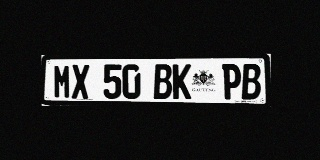0: (122, 64, 140, 99)
5: (104, 64, 121, 99)
B: (242, 64, 261, 99), (154, 64, 172, 99)
K: (173, 64, 191, 99)
M: (53, 64, 71, 99)
P: (222, 64, 241, 99)
X: (71, 64, 89, 99)
